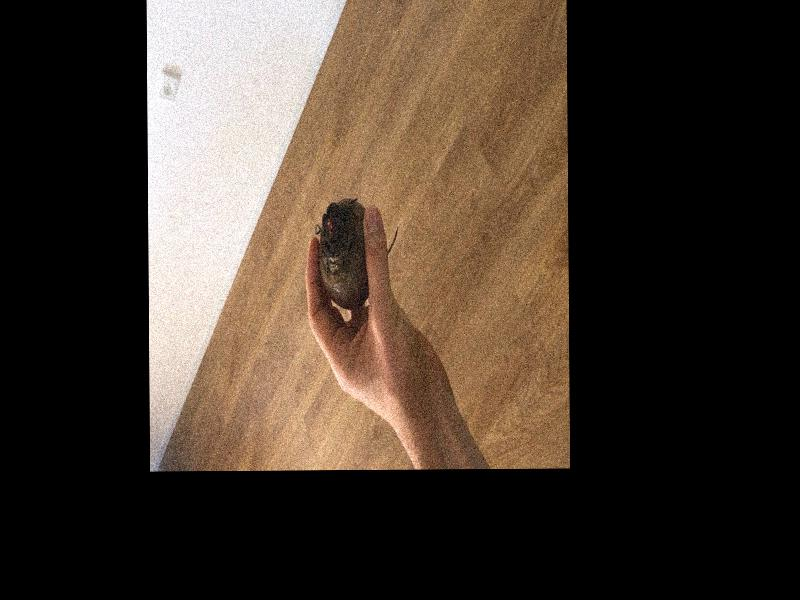Beet: (316, 197, 398, 308)
